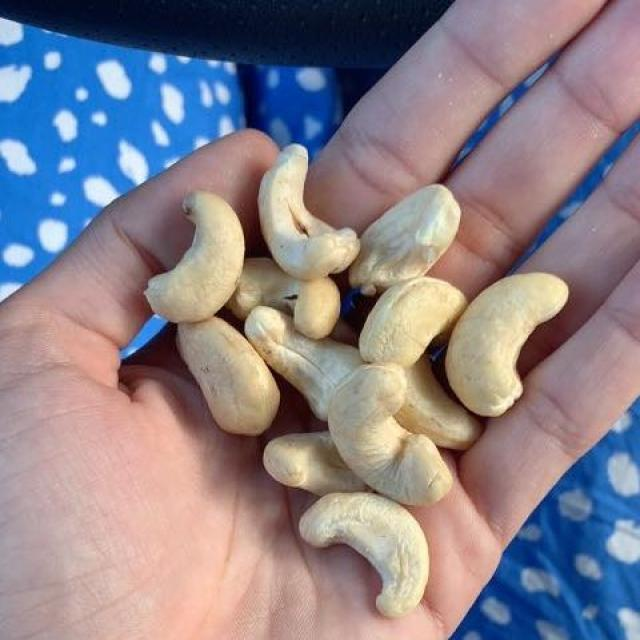cashew-nut: (159, 145, 558, 606)
